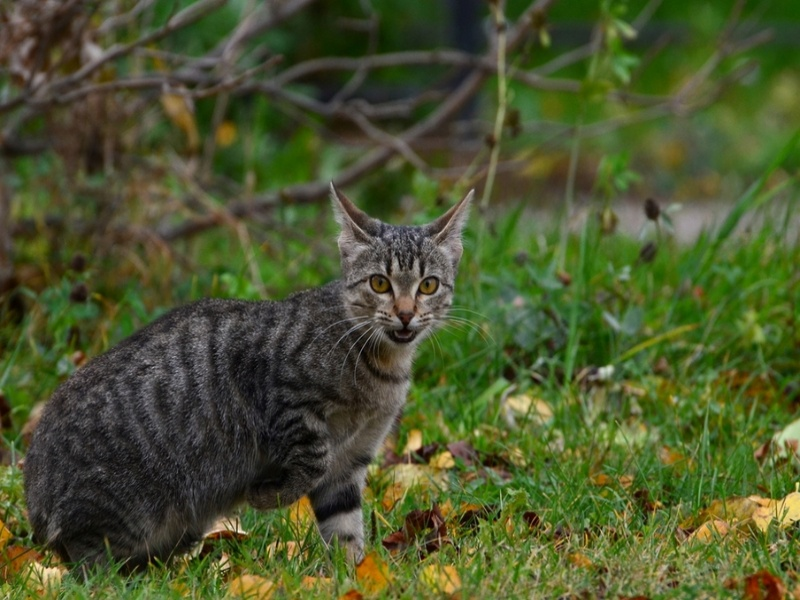cat: (10, 180, 478, 580)
